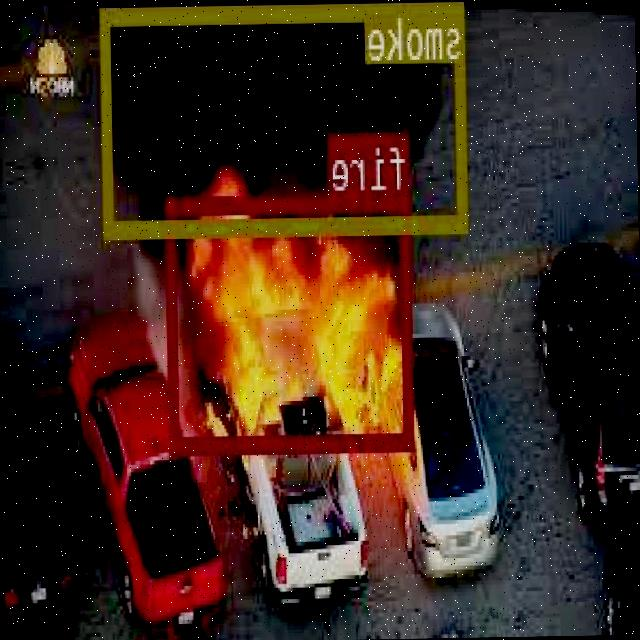fire: (168, 192, 415, 450)
smoke: (101, 0, 468, 235)
